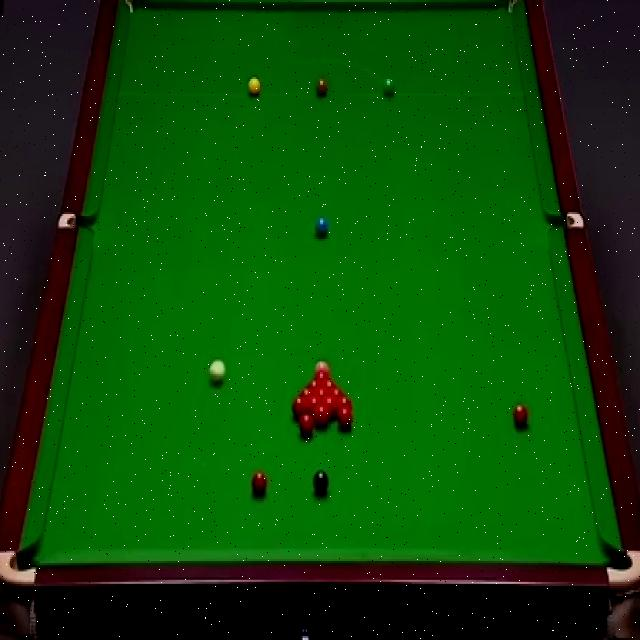black-ball: (312, 469, 329, 496)
blue-ball: (314, 215, 329, 238)
brown-ball: (314, 76, 329, 98)
green-ball: (380, 77, 395, 98)
pink-ball: (313, 360, 330, 375)
red-ball: (250, 470, 268, 496), (513, 404, 530, 430), (298, 413, 316, 435), (290, 396, 309, 416), (337, 406, 353, 429), (314, 405, 330, 426), (324, 397, 338, 417), (308, 396, 324, 412), (338, 396, 351, 414), (329, 388, 346, 397), (315, 388, 331, 397), (300, 387, 314, 397), (313, 372, 330, 380), (306, 381, 322, 389), (321, 380, 336, 388)
white-ball: (209, 356, 226, 384)
yellow-ball: (247, 75, 261, 96)
